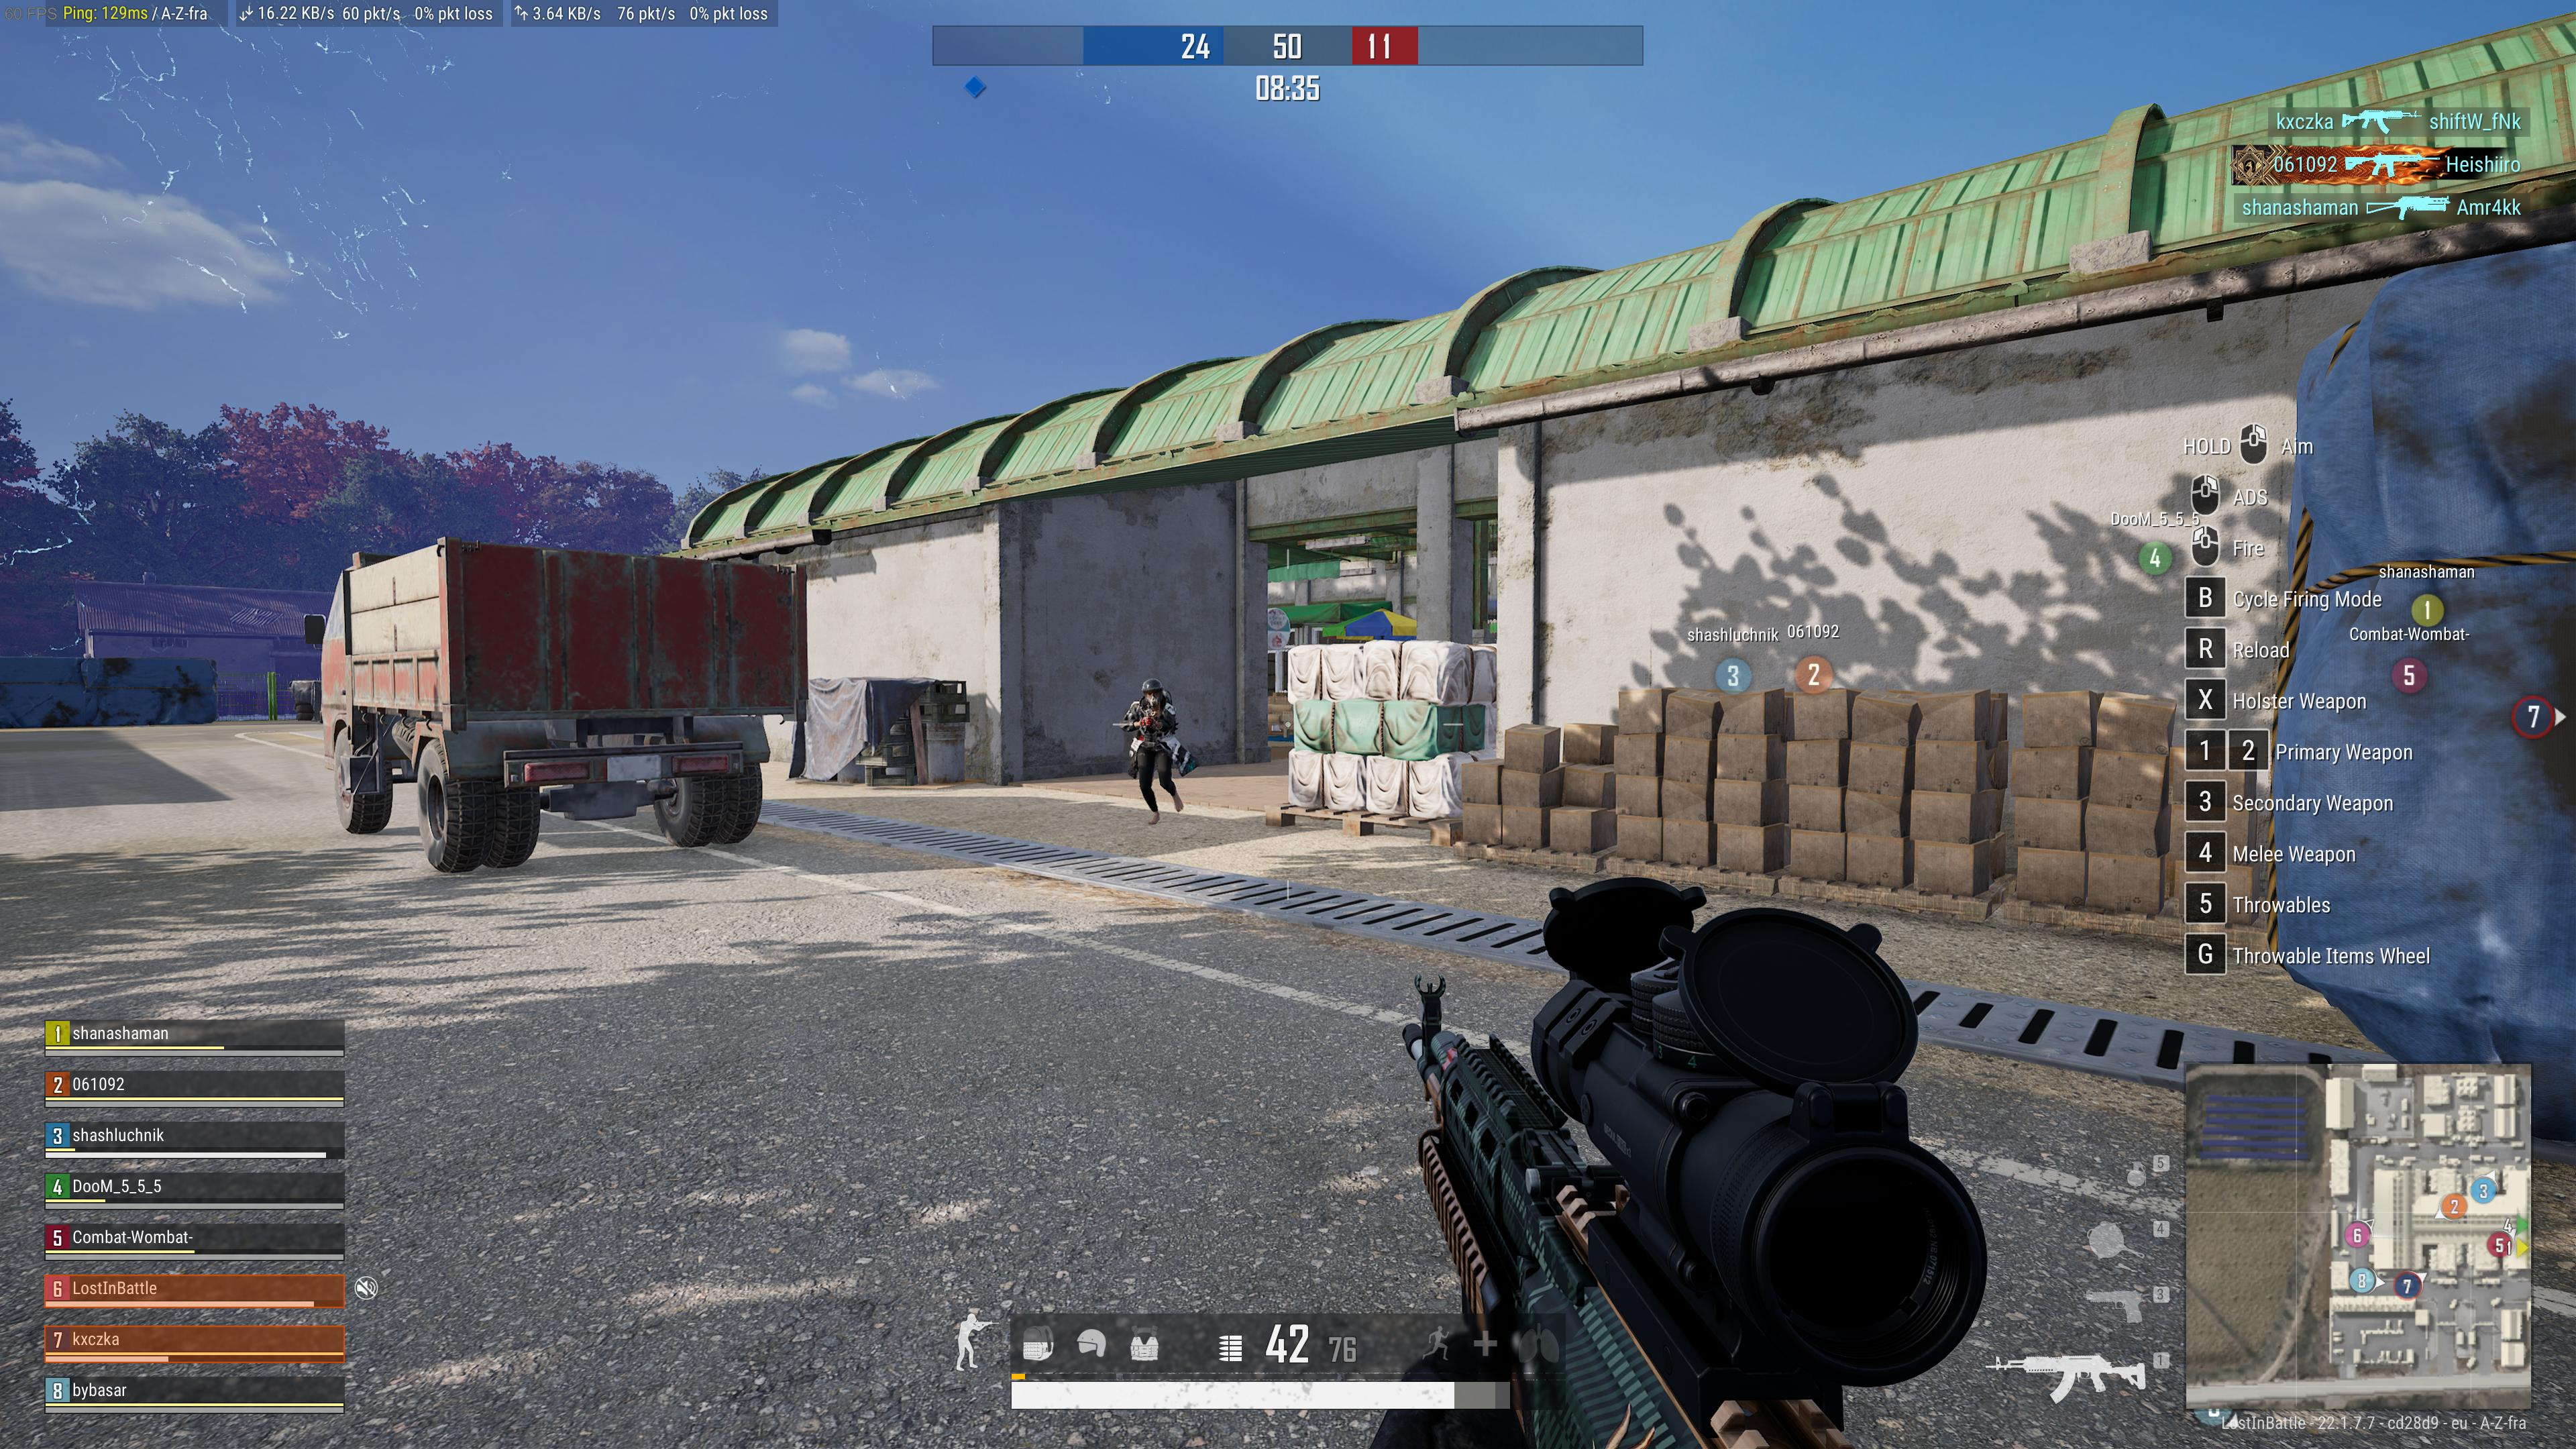enemy: (1118, 678, 1196, 824)
enemy_head: (1139, 678, 1164, 708)
